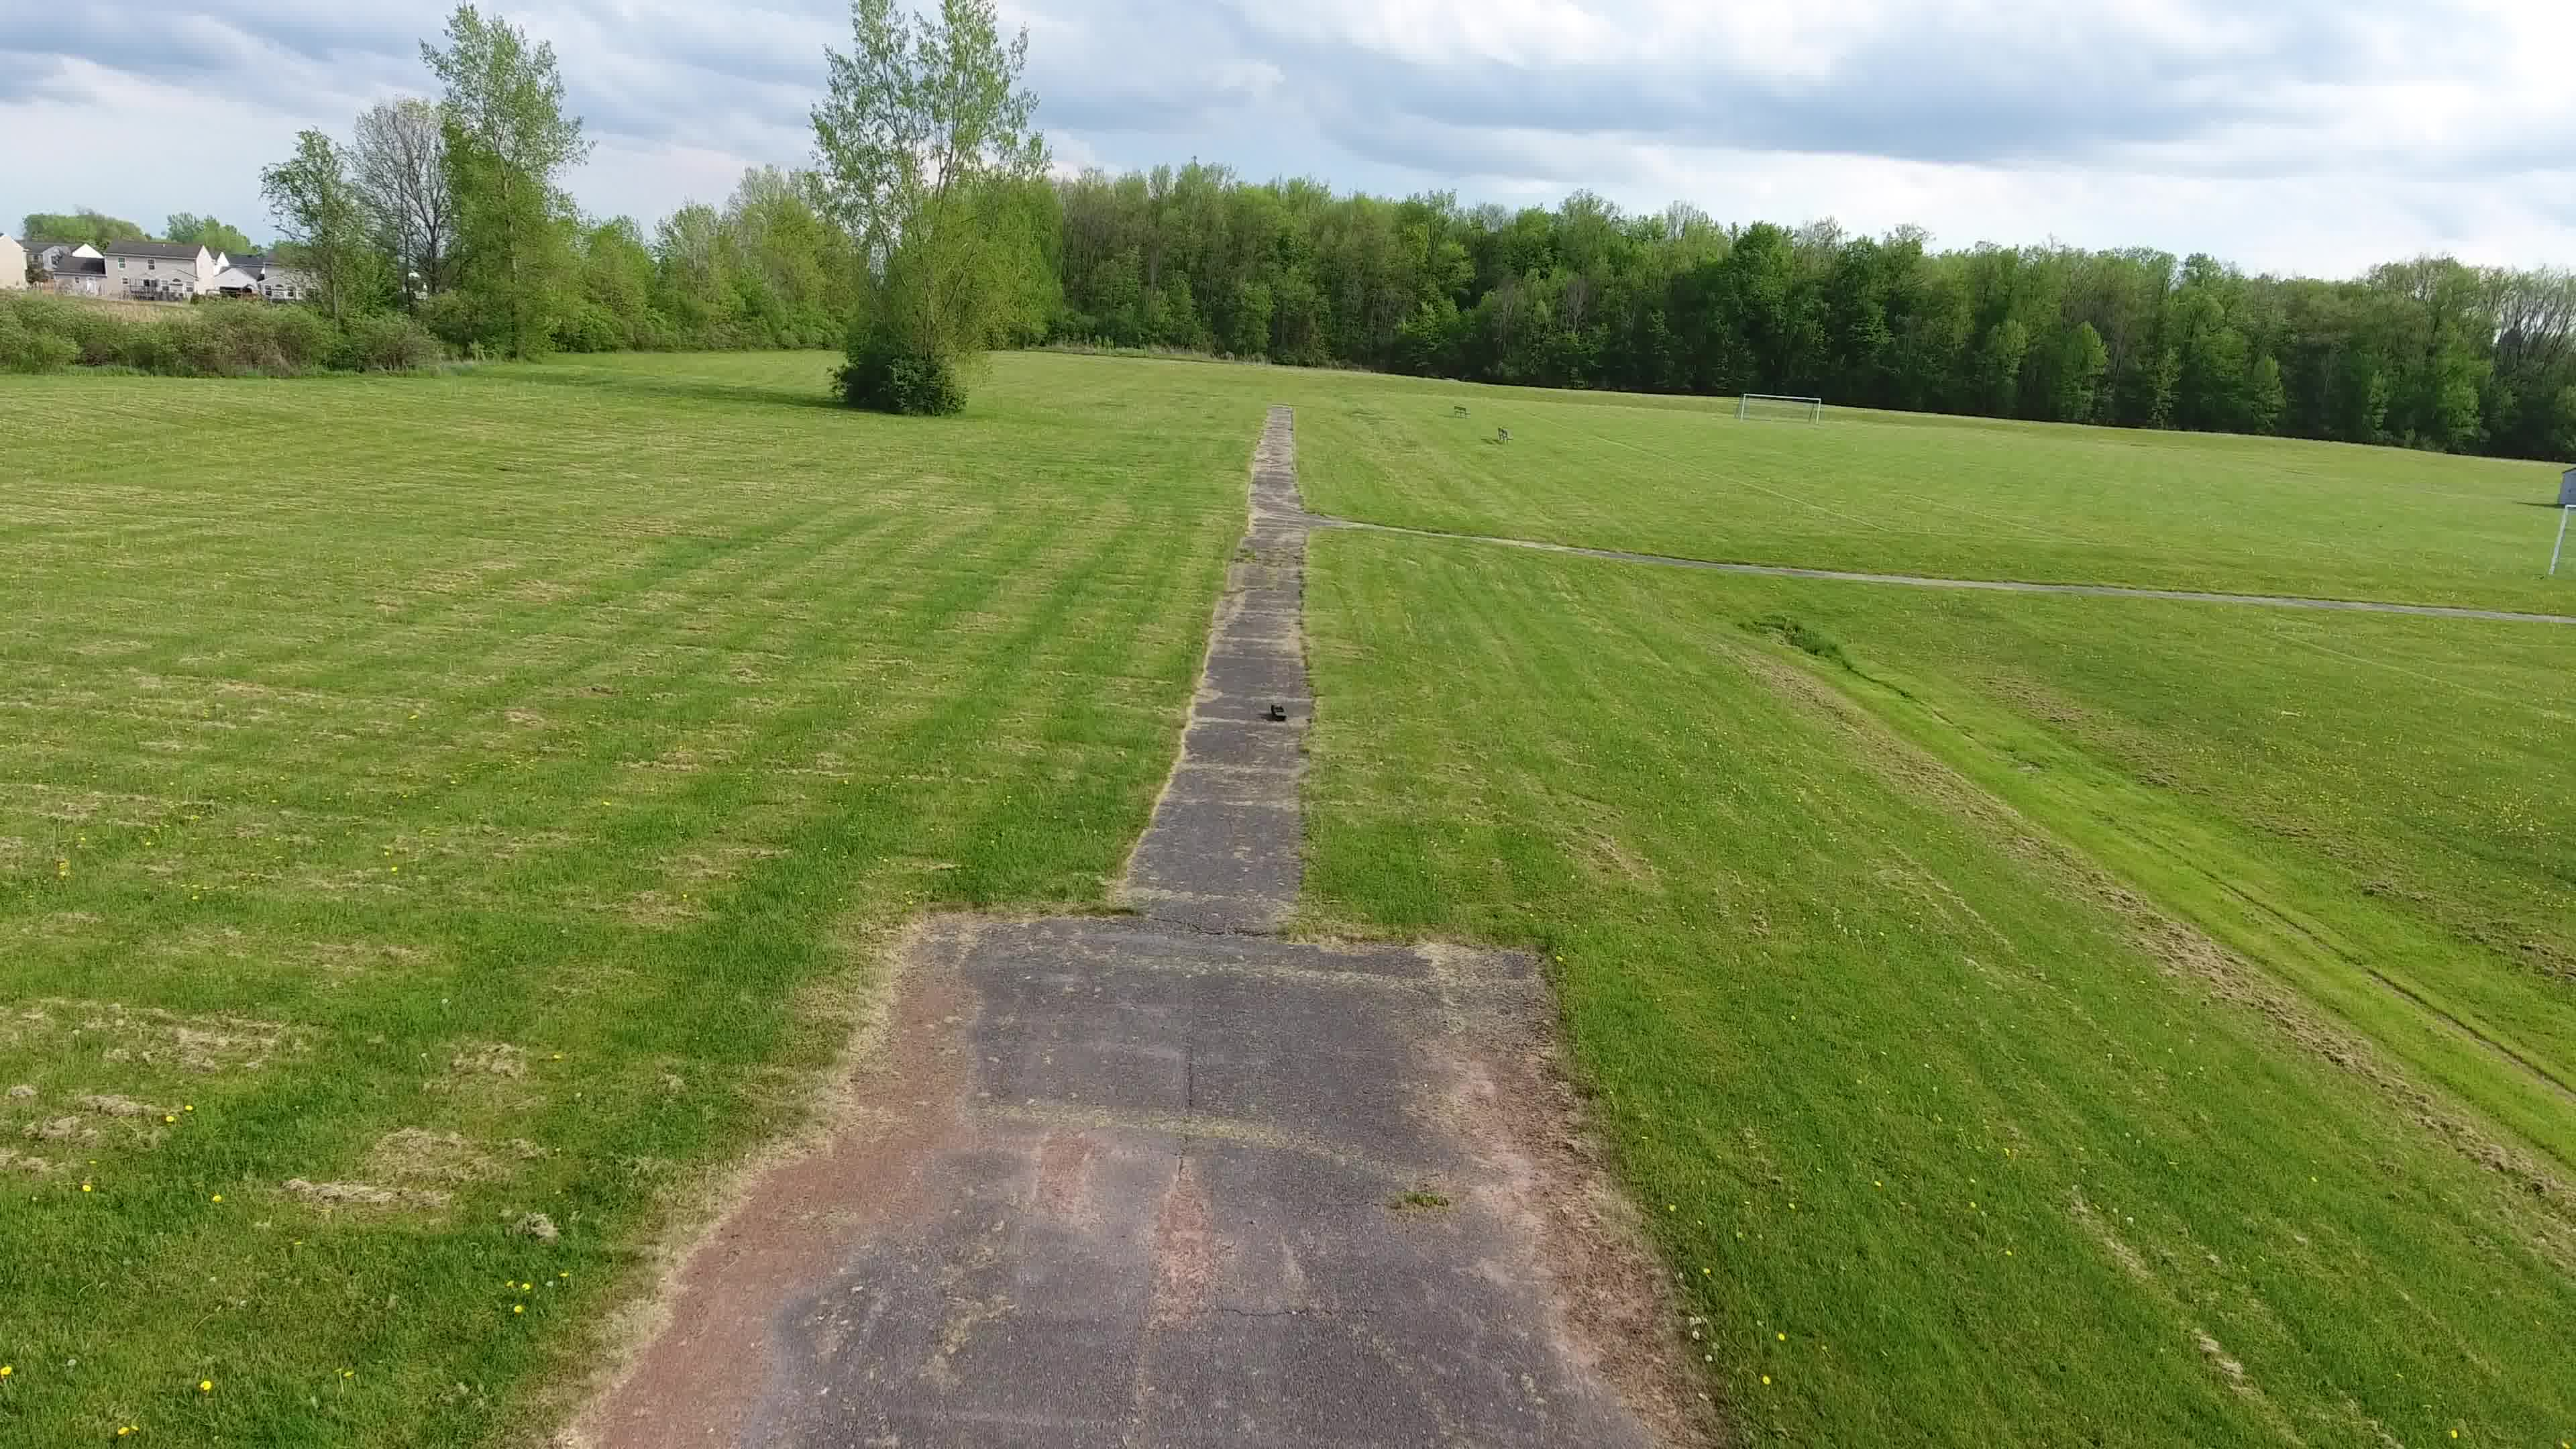transporter9_camo: (1270, 704, 1286, 722)
